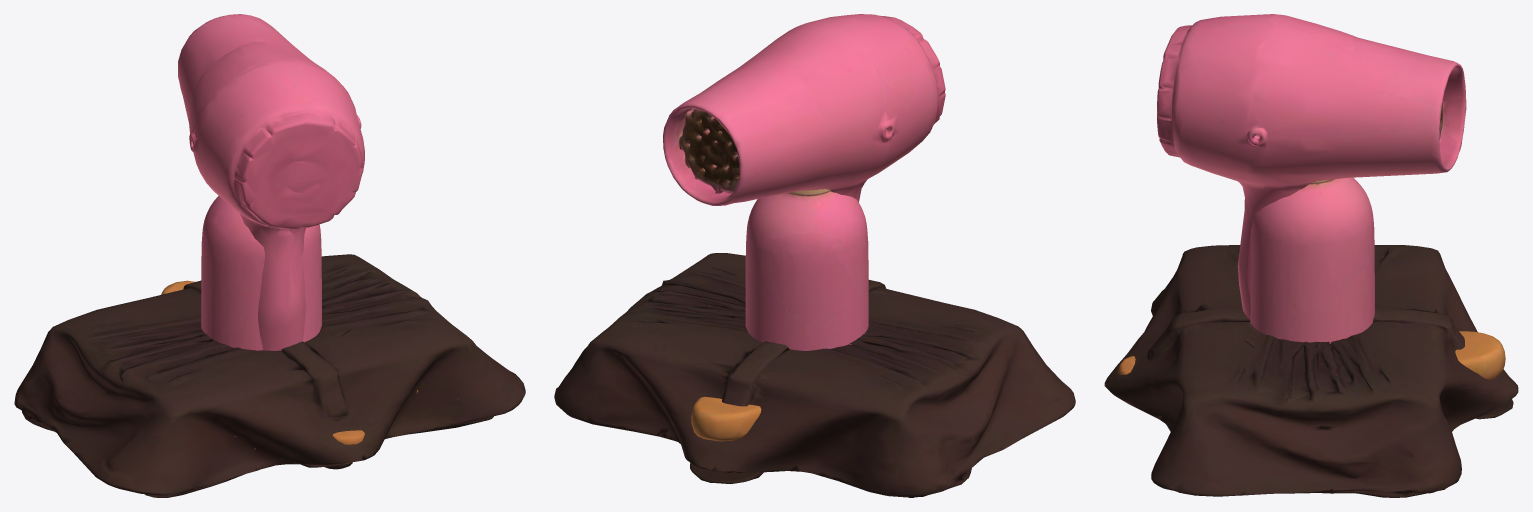
The model's file is coiffeur.glb.
The picture shows the model from 3 angles, left to right: view 1: azimuth 30°, elevation 25°; view 2: azimuth 150°, elevation 25°; view 3: azimuth 270°, elevation 25°; orthographic projection. The views are drawn at different scales.
Visible parts, largest first — view 1: cape-coiffure, seche-cheveux, flacon-soin, brosse-cheveux; view 2: cape-coiffure, seche-cheveux, flacon-soin, brosse-cheveux; view 3: cape-coiffure, seche-cheveux, flacon-soin, brosse-cheveux.
Part boxes in pixels (bbox=[...]): cape-coiffure: bbox=[14, 254, 525, 497]; seche-cheveux: bbox=[178, 14, 364, 350]; flacon-soin: bbox=[201, 196, 321, 350]; brosse-cheveux: bbox=[161, 280, 364, 463]; cape-coiffure: bbox=[554, 253, 1075, 497]; seche-cheveux: bbox=[663, 14, 945, 205]; flacon-soin: bbox=[745, 189, 868, 350]; brosse-cheveux: bbox=[691, 396, 761, 441]; cape-coiffure: bbox=[1104, 245, 1518, 497]; seche-cheveux: bbox=[1157, 14, 1466, 320]; flacon-soin: bbox=[1250, 177, 1374, 343]; brosse-cheveux: bbox=[1118, 331, 1505, 379].
Bounding box in the file's own units: 0.2999 × 0.25 × 0.2452.
Materials: 2 (2 with a texture image).
